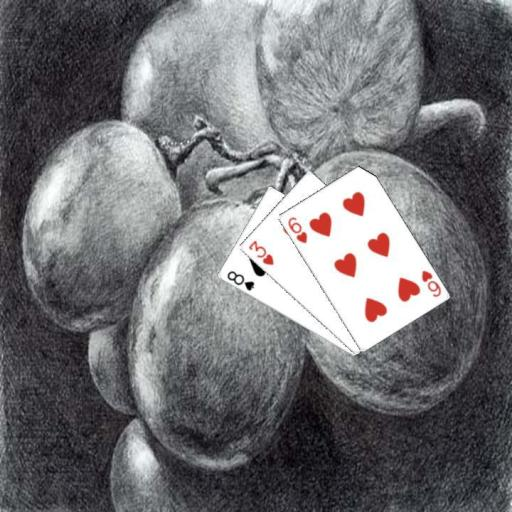3H: (246, 237, 276, 267)
6H: (285, 213, 309, 245), (418, 267, 442, 299)
8S: (224, 268, 256, 293)
